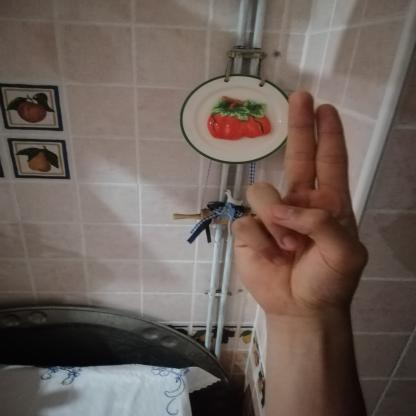TA: (218, 81, 374, 324)
